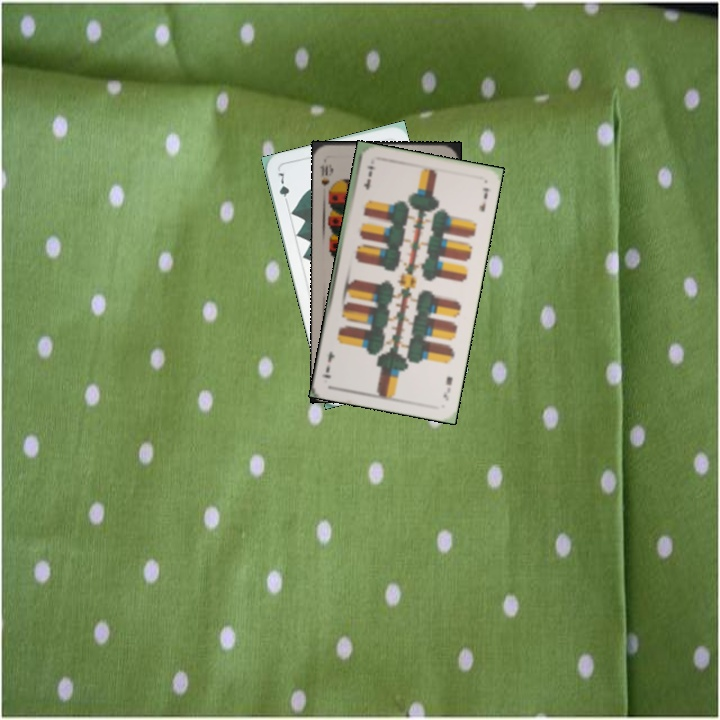E7: (359, 162, 376, 192), (439, 372, 455, 403)
G7: (274, 168, 292, 208)
S10: (316, 160, 335, 197)
